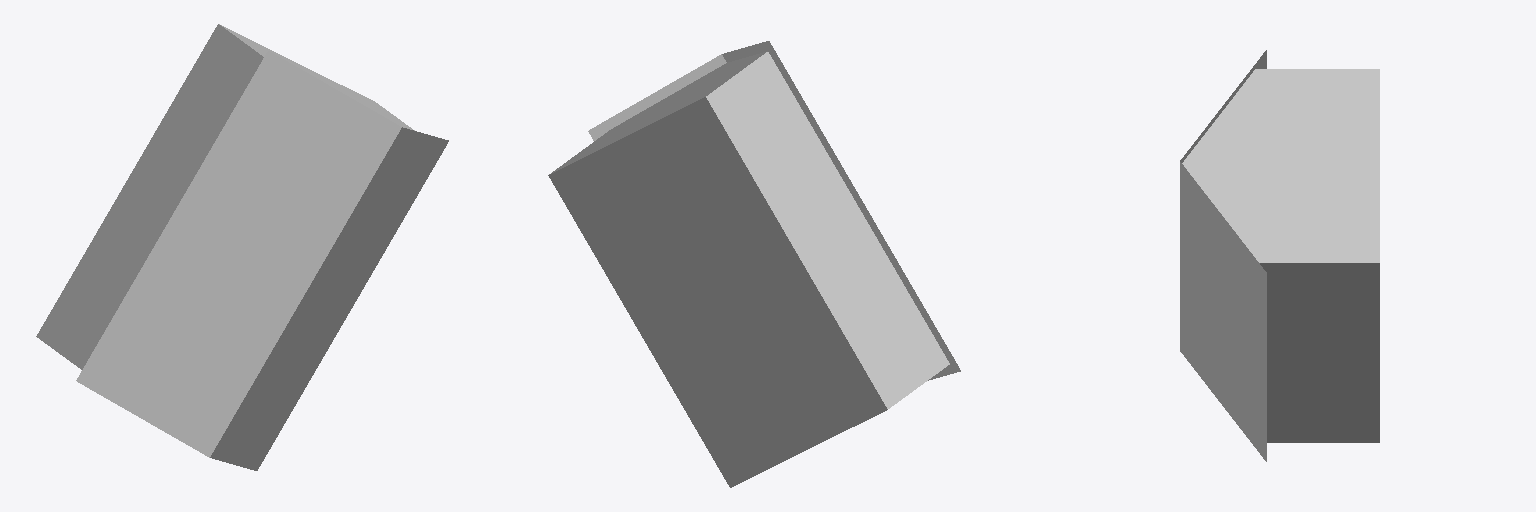
The model's file is Spira175OBJ_roofOverhang_reversed.obj.
3 renders of one model, left to right at view 1: azimuth 30°, elevation 25°; view 2: azimuth 150°, elevation 25°; view 3: azimuth 270°, elevation 25°, orthographic.
Size of the model in its own units: 15.92 by 17.03 by 7.38.